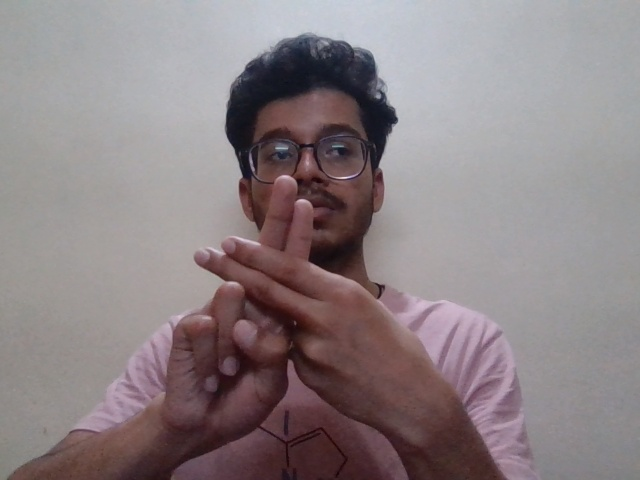disabled: (130, 172, 483, 451)
